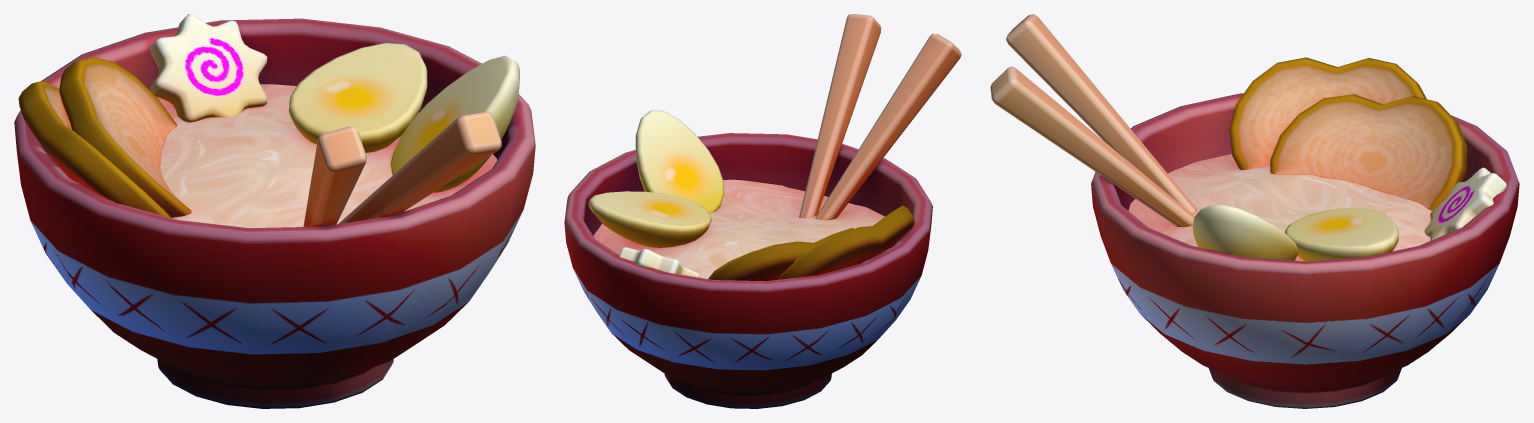
The model's file is jp_ramen.glb.
The picture shows the model from 3 angles, left to right: view 1: azimuth 30°, elevation 25°; view 2: azimuth 150°, elevation 25°; view 3: azimuth 270°, elevation 25°; orthographic projection. The views are drawn at different scales.
Visible parts, largest first — view 1: Object_2; view 2: Object_2; view 3: Object_2.
Part boxes in pixels (x1,y1,x2,y2): Object_2: (14,14,535,408); Object_2: (564,14,961,408); Object_2: (990,14,1519,408).
Size of the model in its own units: 1.48 by 1.19 by 1.83.
1 material, 1 textured.
